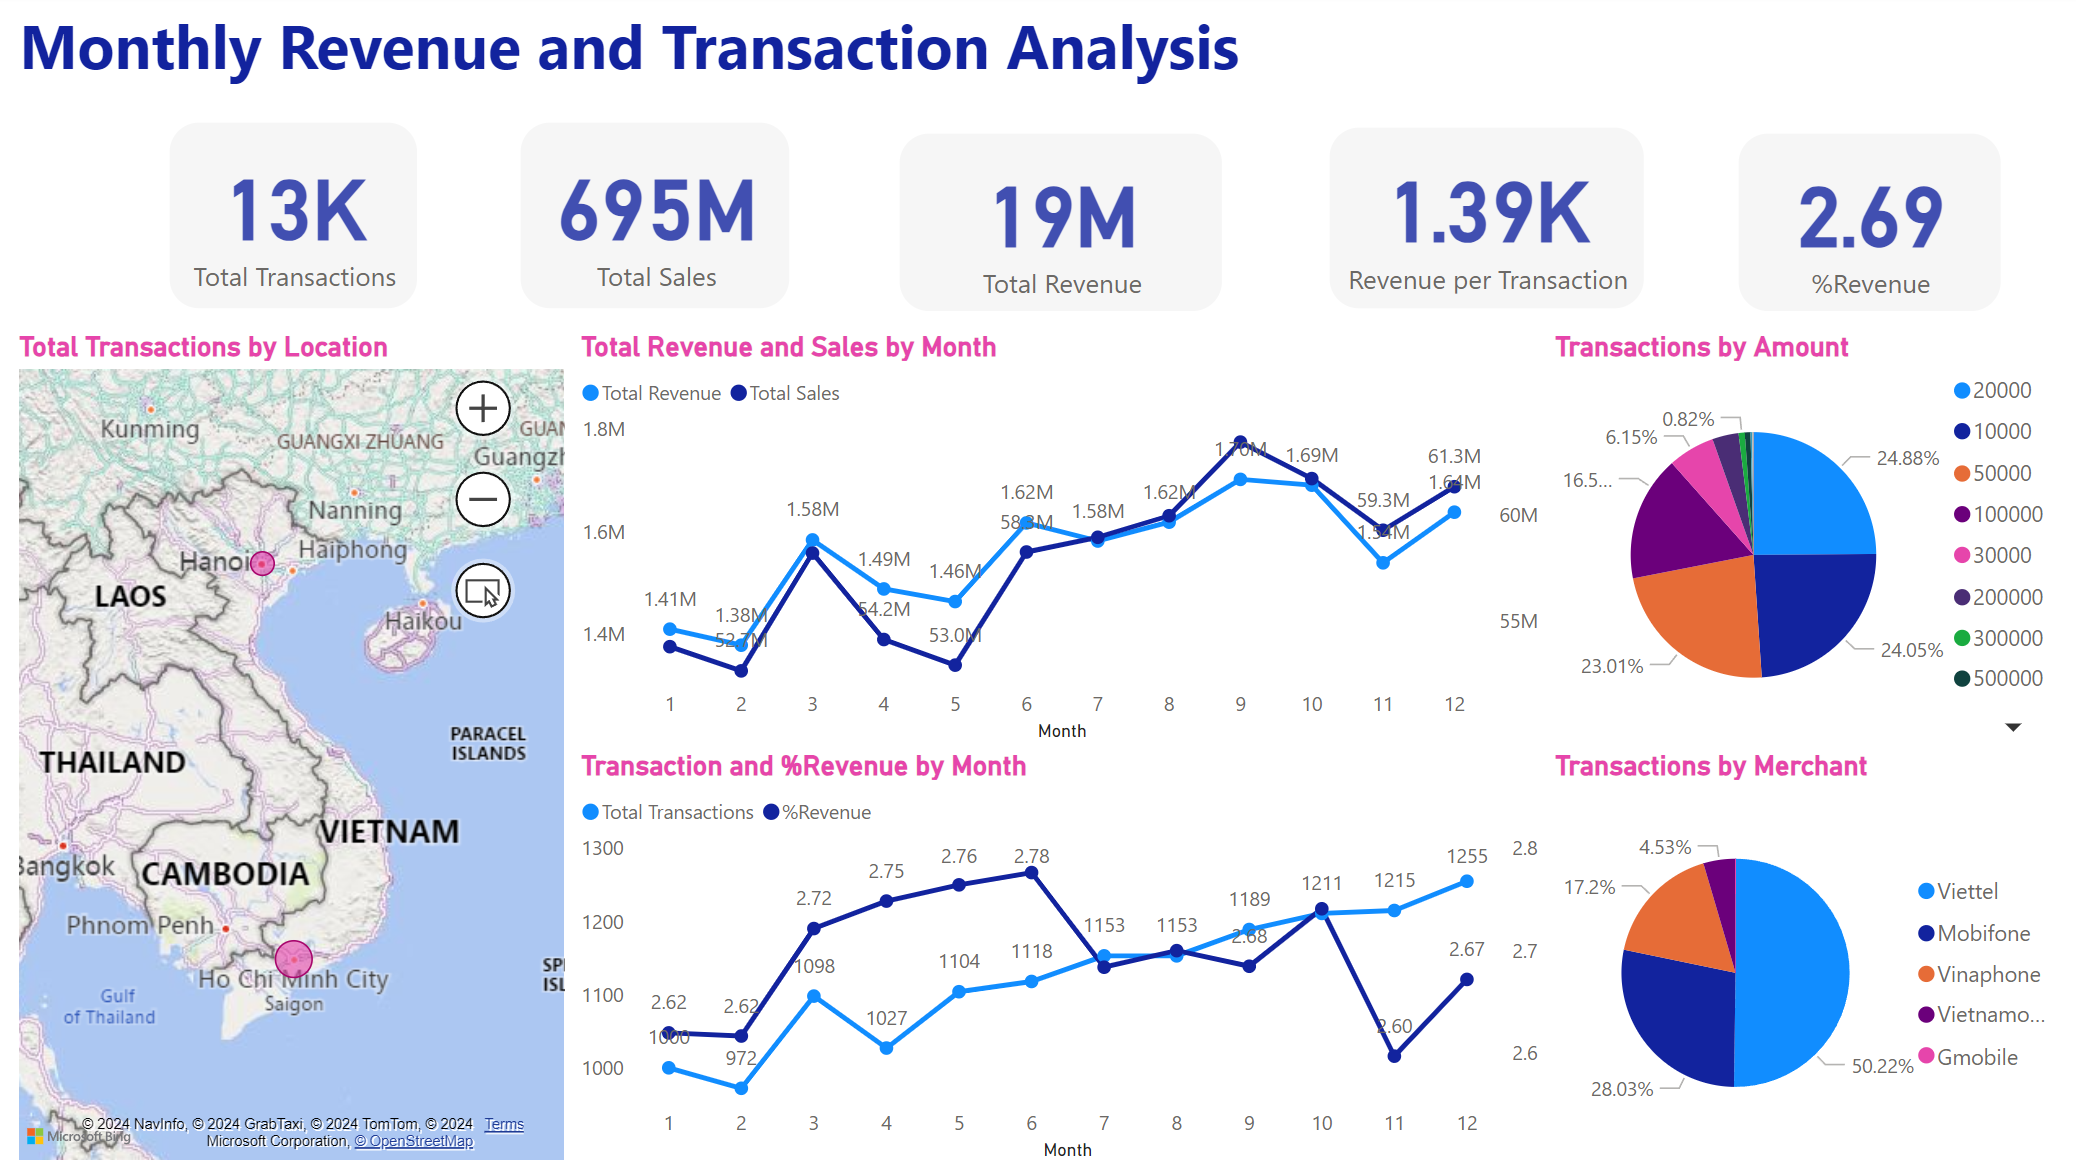

What the dashboard file says about the page in this screenshot:
{"tool":"powerbi","page":{"name":"PartB_Slide1","canvas":[1280,720],"ordinal":0},"visuals":[{"type":"textbox","box":[142.7,4.7,856,84.7],"z":0},{"type":"lineChart","title":"Total Revenue and Sales by Month","fields":{"Category":["Data Transactions.Month"],"Y":["_Measure.Total Revenue"],"Y2":["_Measure.Total Sales"]},"box":[355.3,205.3,598,257.3],"z":1000},{"type":"lineChart","title":"Transaction and %Revenue by Month","fields":{"Category":["Data Transactions.Month"],"Y":["_Measure.#Transaction"],"Y2":["_Measure.%Revenue"]},"box":[355.3,462.7,598,257.3],"z":2000},{"type":"card","fields":{"Values":["_Measure.#Transaction"]},"box":[106,76.7,154,116],"z":3000},{"type":"pieChart","title":"Transactions by Amount","fields":{"Category":["Data Transactions.Amount"],"Y":["_Measure.#Transaction"]},"box":[953.3,205.3,326.7,257.3],"z":4000},{"type":"map","fields":{"Category":["Data Transactions.Location"],"Size":["_Measure.Total Transactions"]},"box":[10,205.3,345.3,514.7],"z":5000},{"type":"image","box":[0,0,98.6,97.9],"z":6000},{"type":"card","fields":{"Values":["_Measure.Total Sales"]},"box":[322,76.7,167.3,116],"z":7000},{"type":"card","fields":{"Values":["_Measure.Total Revenue"]},"box":[554.7,83.3,200,111.3],"z":8000},{"type":"card","fields":{"Values":["_Measure.%Profit"]},"box":[1070,83.3,162.7,111.3],"z":9000},{"type":"card","fields":{"Values":["_Measure.Avg Revenue per Transaction"]},"box":[818.7,80,194.7,112.7],"z":10000},{"type":"pieChart","title":"Transactions by Merchant","fields":{"Y":["_Measure.#Transaction"],"Category":["Data Commission.Merchant_name"]},"box":[953.3,462.7,326.7,256],"z":11000},{"type":"image","box":[72.7,0,84,83.3],"z":12000}]}

Visuals, with their boxes in screenshot pixels (x1, y1, x2, y2), scaled from the page's 1280x720 canvas onto the 2076x1166 screenshot:
textbox: {"x1": 231, "y1": 8, "x2": 1620, "y2": 145}
"Total Revenue and Sales by Month" lineChart: {"x1": 576, "y1": 332, "x2": 1546, "y2": 749}
"Transaction and %Revenue by Month" lineChart: {"x1": 576, "y1": 749, "x2": 1546, "y2": 1165}
card - _Measure.#Transaction: {"x1": 172, "y1": 124, "x2": 422, "y2": 312}
"Transactions by Amount" pieChart: {"x1": 1546, "y1": 332, "x2": 2075, "y2": 749}
map - Data Transactions.Location x _Measure.Total Transactions: {"x1": 16, "y1": 332, "x2": 576, "y2": 1165}
image: {"x1": 0, "y1": 0, "x2": 160, "y2": 159}
card - _Measure.Total Sales: {"x1": 522, "y1": 124, "x2": 794, "y2": 312}
card - _Measure.Total Revenue: {"x1": 900, "y1": 135, "x2": 1224, "y2": 315}
card - _Measure.%Profit: {"x1": 1735, "y1": 135, "x2": 1999, "y2": 315}
card - _Measure.Avg Revenue per Transaction: {"x1": 1328, "y1": 130, "x2": 1644, "y2": 312}
"Transactions by Merchant" pieChart: {"x1": 1546, "y1": 749, "x2": 2075, "y2": 1164}
image: {"x1": 118, "y1": 0, "x2": 254, "y2": 135}
